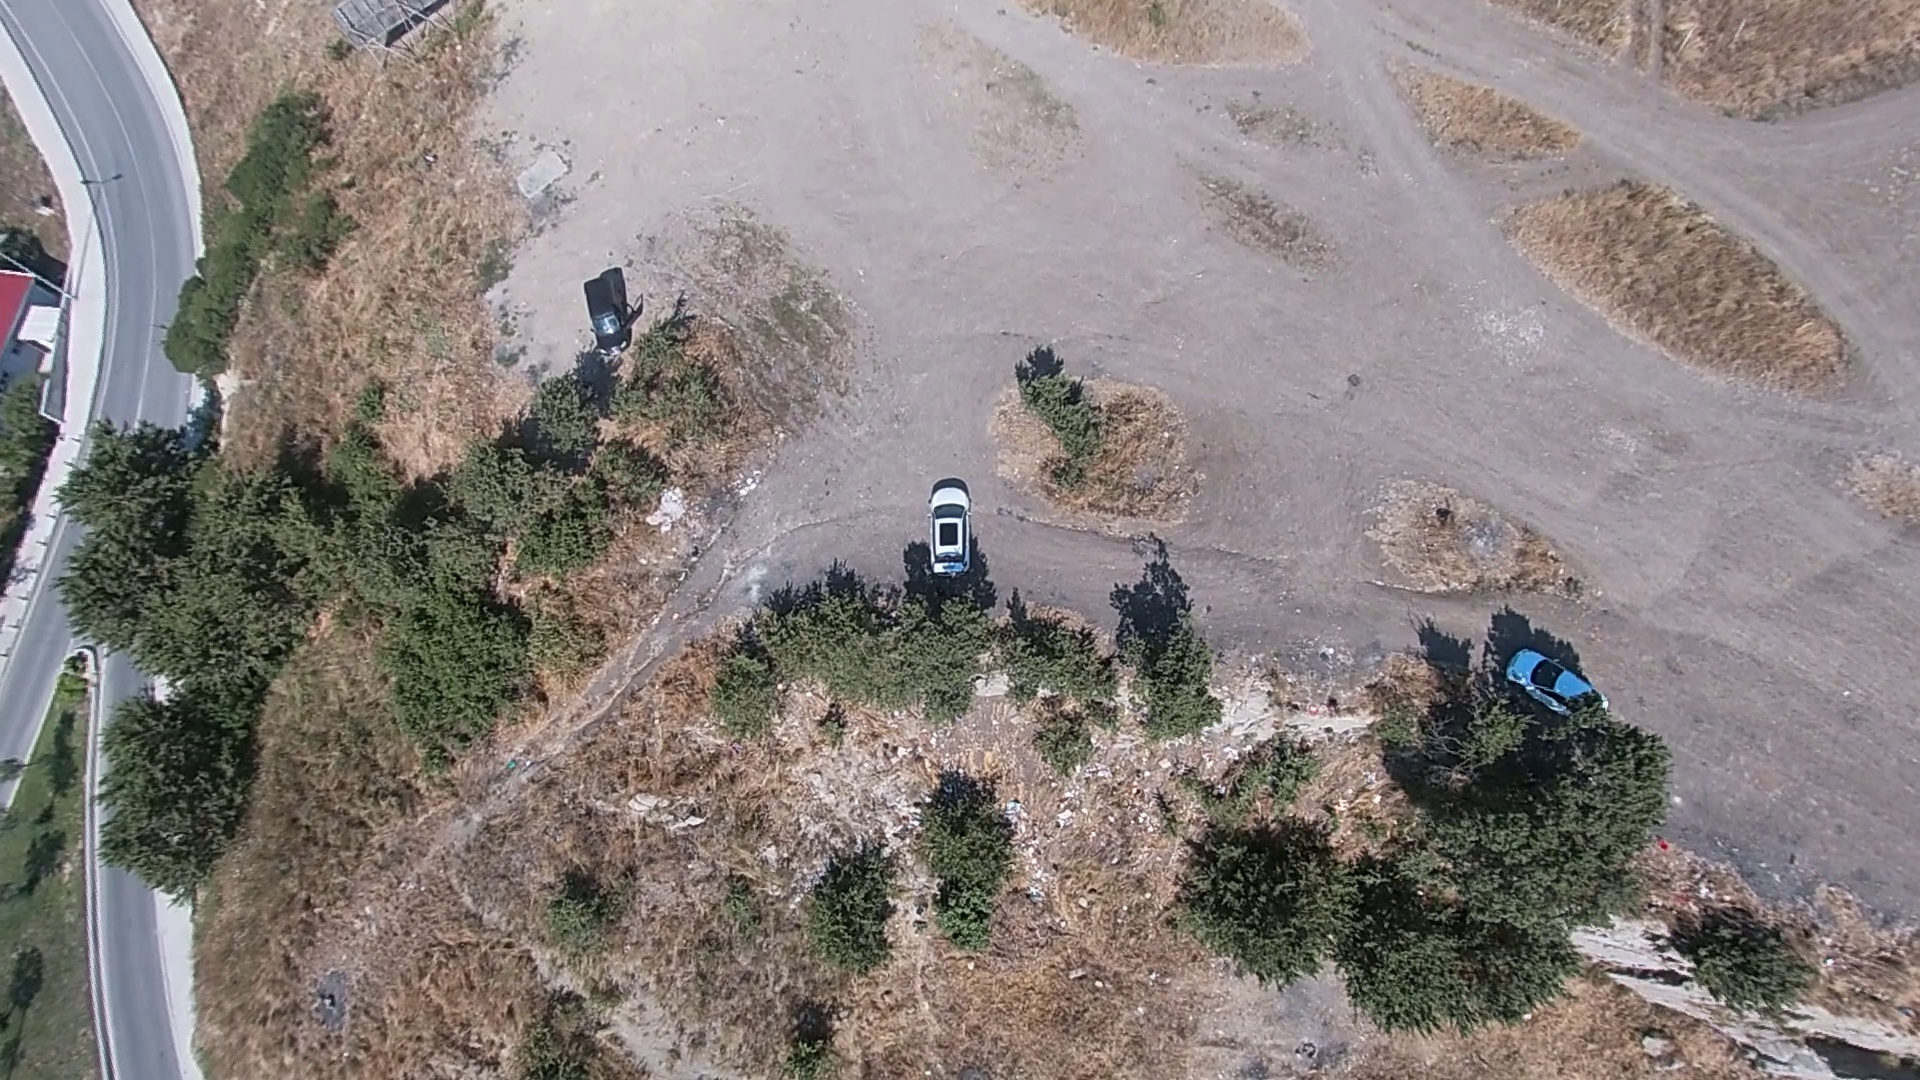araba: (1501, 632, 1605, 719), (922, 483, 972, 574), (579, 266, 629, 357)
